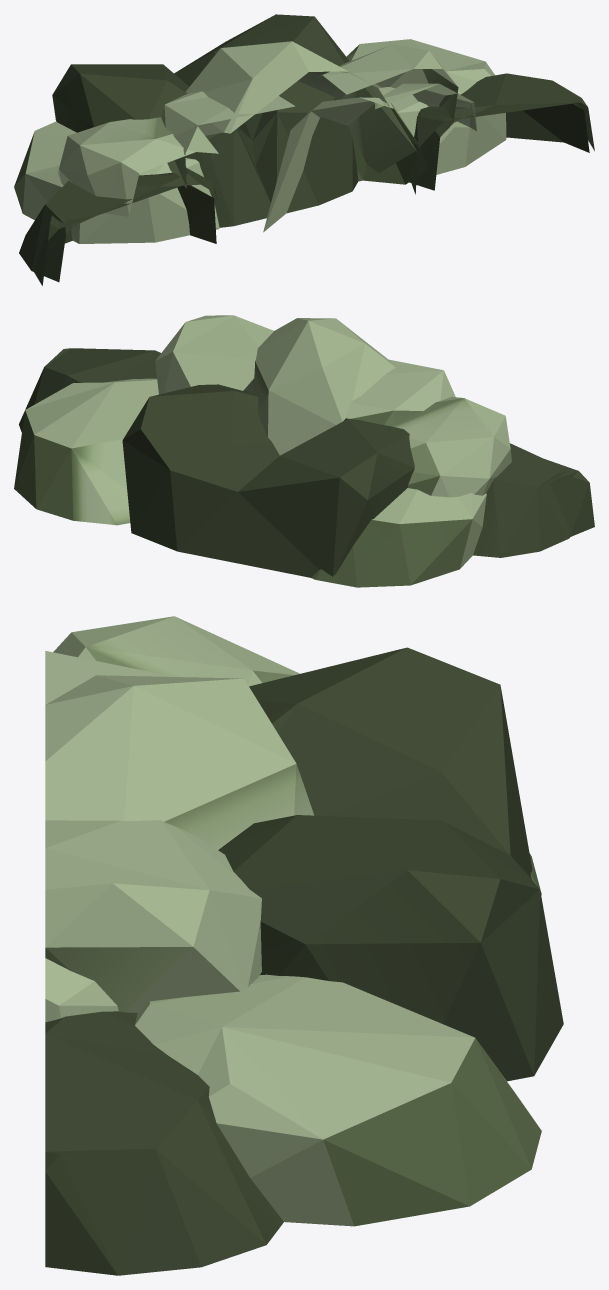
File: EA_Swamp_Stones_02b.glb
3 views of the same model, one above another, from view 1: azimuth 30°, elevation 25°; view 2: azimuth 150°, elevation 25°; view 3: azimuth 270°, elevation 25° (orthographic). The views are drawn at different scales.
Visible parts, largest first — view 1: EA_Swamp_Stones_02b; view 2: EA_Swamp_Stones_02b; view 3: EA_Swamp_Stones_02b.
Part boxes in pixels (x1=…): EA_Swamp_Stones_02b: x1=14, y1=14, x2=594, y2=285; EA_Swamp_Stones_02b: x1=14, y1=315, x2=594, y2=587; EA_Swamp_Stones_02b: x1=45, y1=616, x2=563, y2=1275.
Size of the model in its own units: 2.97 by 0.8205 by 1.22.
Materials: 1 (1 with a texture image).
